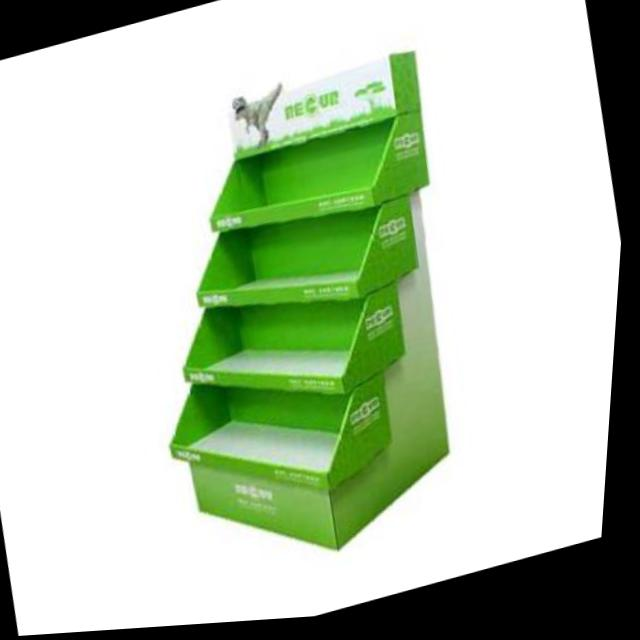box: (86, 15, 526, 609)
